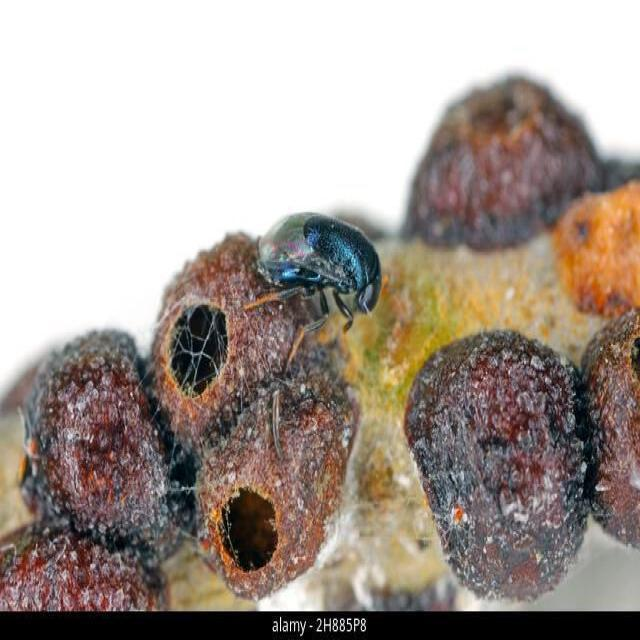BlackScale: (0, 329, 193, 610), (404, 331, 591, 597), (402, 76, 639, 245), (199, 367, 358, 596), (150, 234, 284, 471), (581, 308, 639, 547)
